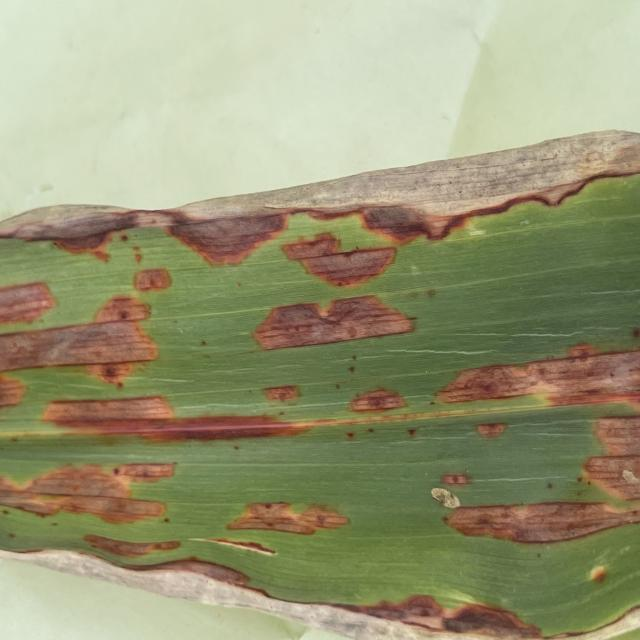millet_rust: (1, 133, 640, 631)
